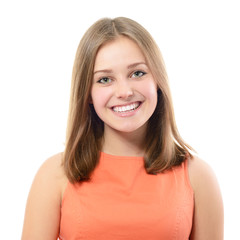teen: (80, 15, 165, 144)
